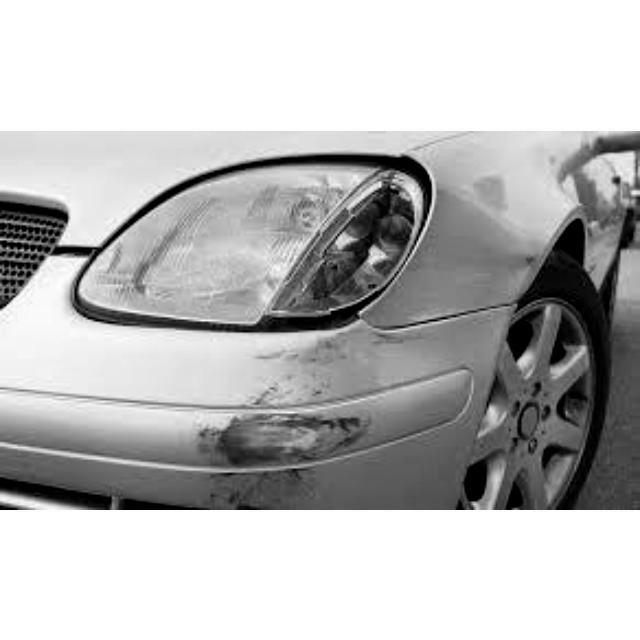front-bumper-dent: (112, 330, 515, 507)
